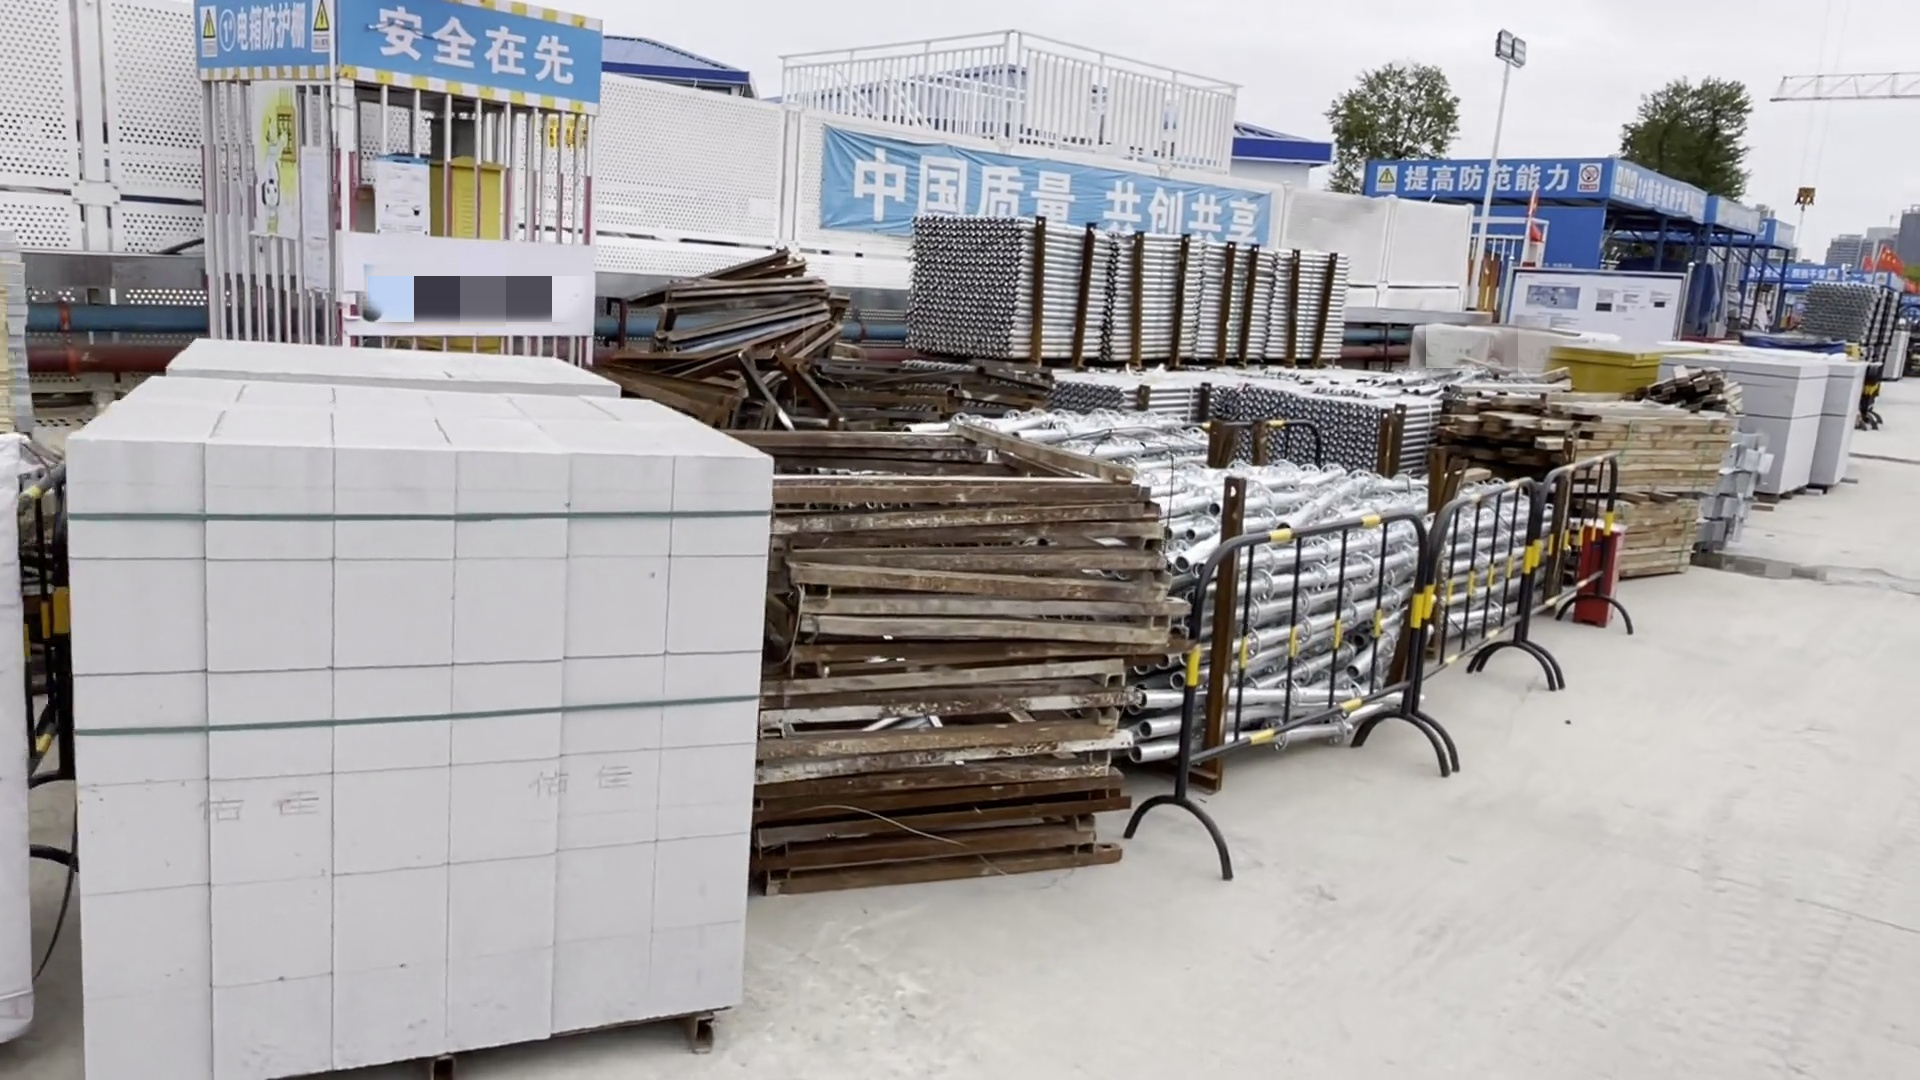brick: (45, 340, 777, 1080)
scaffold: (1174, 475, 1543, 690), (910, 225, 1362, 364)
slogan: (823, 140, 1278, 253), (175, 9, 593, 112), (1369, 166, 1764, 227)
